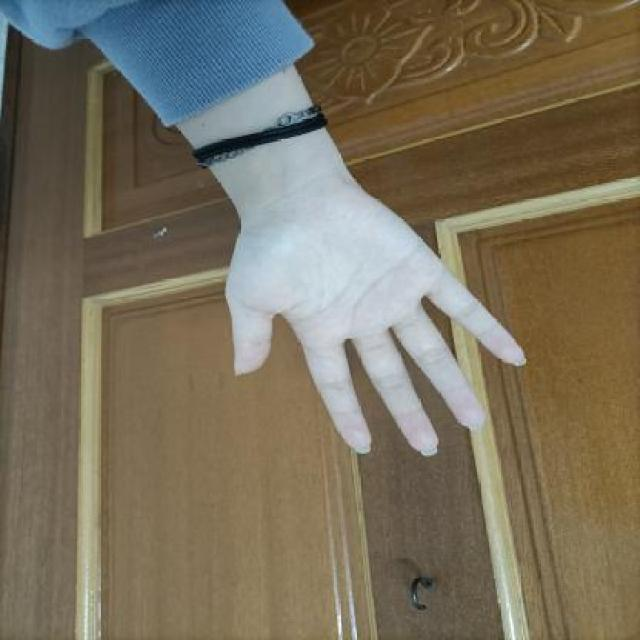bare_hand: (192, 178, 545, 478)
